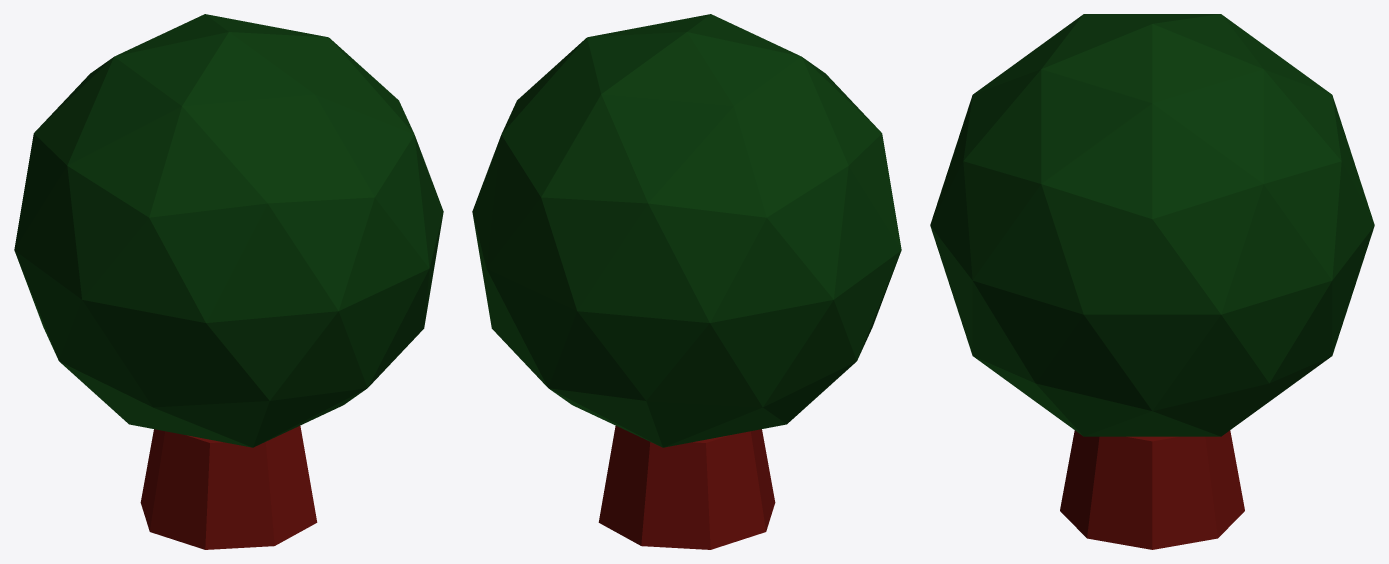
File: hedge_round.obj
3 views of the same model, side by side, from view 1: azimuth 30°, elevation 25°; view 2: azimuth 150°, elevation 25°; view 3: azimuth 270°, elevation 25° (orthographic).
Visible parts, largest first — view 1: hedge_round; view 2: hedge_round; view 3: hedge_round.
Part boxes in pixels (x1,y1,x2,y2): hedge_round: [14, 14, 443, 549]; hedge_round: [472, 14, 901, 549]; hedge_round: [930, 14, 1374, 549].
Size of the model in its own units: 1.14 by 1.45 by 1.2.
